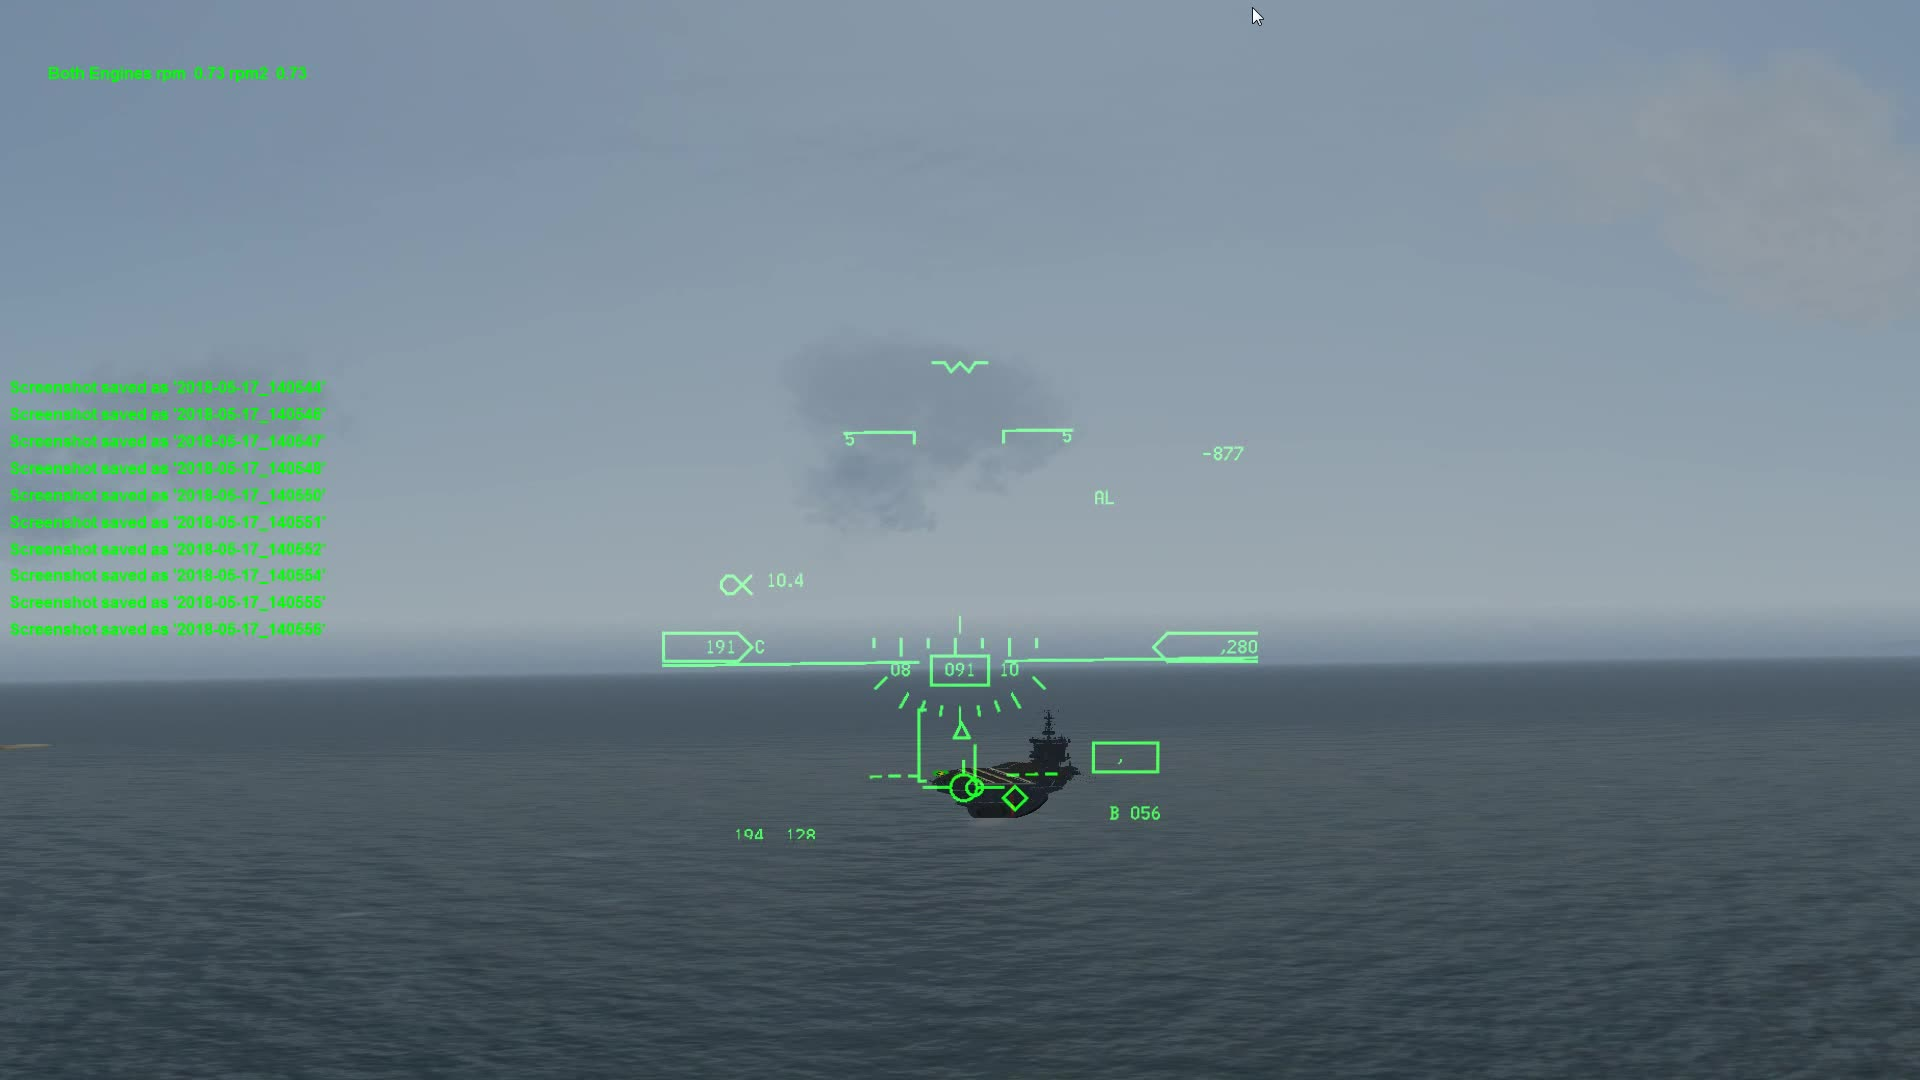speed vector: (922, 756, 1007, 806)
